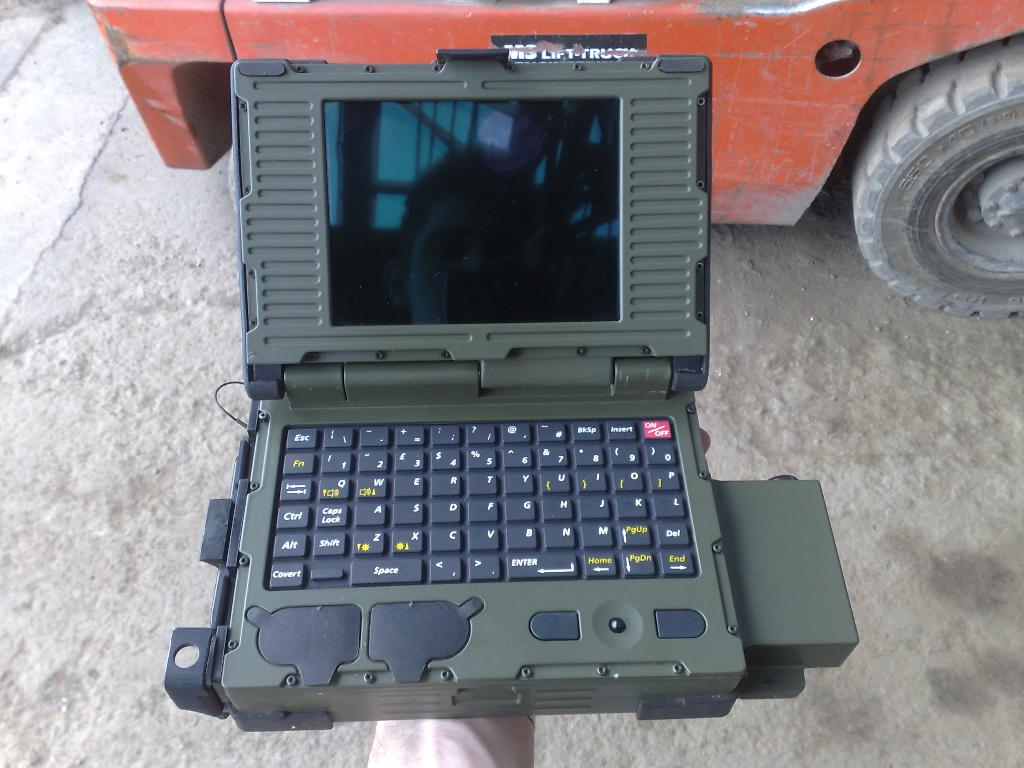Laptop: (226, 45, 749, 726)
